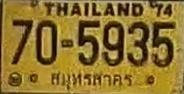0: (35, 19, 56, 64)
3: (126, 21, 149, 65)
5: (151, 22, 175, 66), (77, 20, 99, 65)
7: (11, 19, 32, 64)
9: (102, 20, 123, 65)
SKN: (49, 68, 136, 91)
